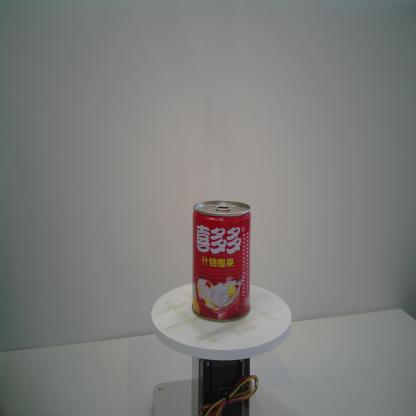Canned Food: (191, 199, 252, 323)
